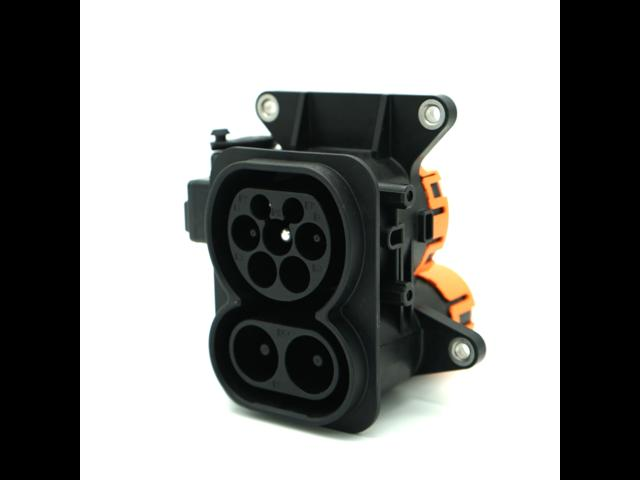inlet: (228, 188, 331, 301)
inlet-above-left: (250, 194, 271, 220)
inlet-above-right: (282, 197, 304, 224)
inlet-below-left: (247, 251, 277, 288)
inlet-below-right: (279, 255, 310, 293)
inlet-circle: (263, 219, 292, 256)
inlet-circle-left: (231, 214, 260, 251)
inlet-circle-right: (295, 222, 327, 260)
inlet-minus: (285, 335, 334, 394)
inlet-plus: (233, 325, 279, 382)
